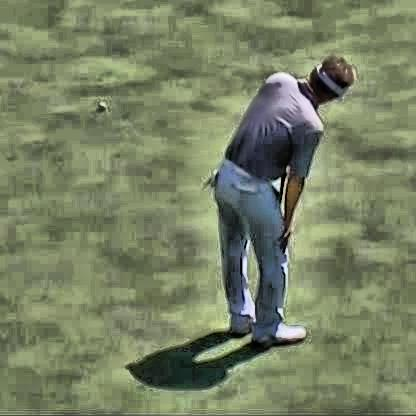golfball: (95, 98, 102, 108)
